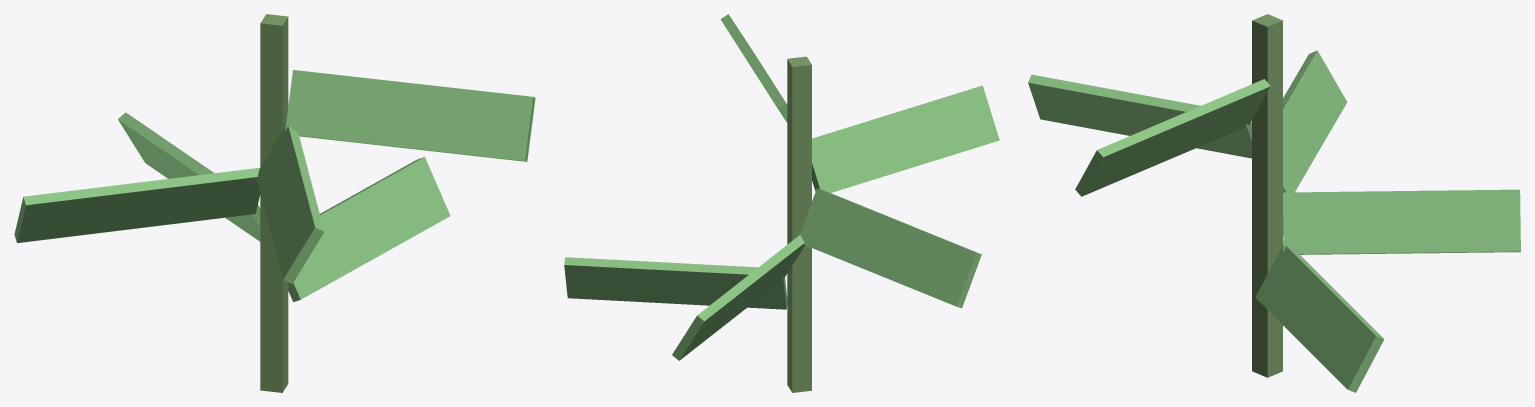
File: fern.glb
The picture shows the model from 3 angles, left to right: view 1: azimuth 30°, elevation 25°; view 2: azimuth 150°, elevation 25°; view 3: azimuth 270°, elevation 25°; orthographic projection. The views are drawn at different scales.
Parts seen in each view (by area): view 1: leaf.004, leaf.002, leaf, stem, leaf.003, leaf.001; view 2: leaf.003, leaf.002, leaf, stem, leaf.001, leaf.004; view 3: leaf.001, stem, leaf, leaf.004, leaf.003, leaf.002.
Part boxes in pixels (left/top/right/bottom): leaf.004: left=285, top=70, right=535, bottom=161; leaf.002: left=14, top=167, right=260, bottom=242; leaf: left=288, top=157, right=450, bottom=301; stem: left=260, top=14, right=288, bottom=392; leaf.003: left=256, top=125, right=324, bottom=284; leaf.001: left=118, top=112, right=260, bottom=241; leaf.003: left=812, top=85, right=999, bottom=192; leaf.002: left=800, top=188, right=981, bottom=308; leaf: left=564, top=257, right=787, bottom=309; stem: left=787, top=56, right=811, bottom=392; leaf.001: left=672, top=235, right=804, bottom=360; leaf.004: left=720, top=14, right=812, bottom=144; leaf.001: left=1283, top=189, right=1520, bottom=254; stem: left=1252, top=14, right=1282, bottom=377; leaf: left=1255, top=245, right=1384, bottom=392; leaf.004: left=1075, top=79, right=1270, bottom=196; leaf.003: left=1028, top=74, right=1251, bottom=158; leaf.002: left=1283, top=50, right=1347, bottom=192.
Size of the model in its own units: 0.9513 by 0.75 by 0.9553.
